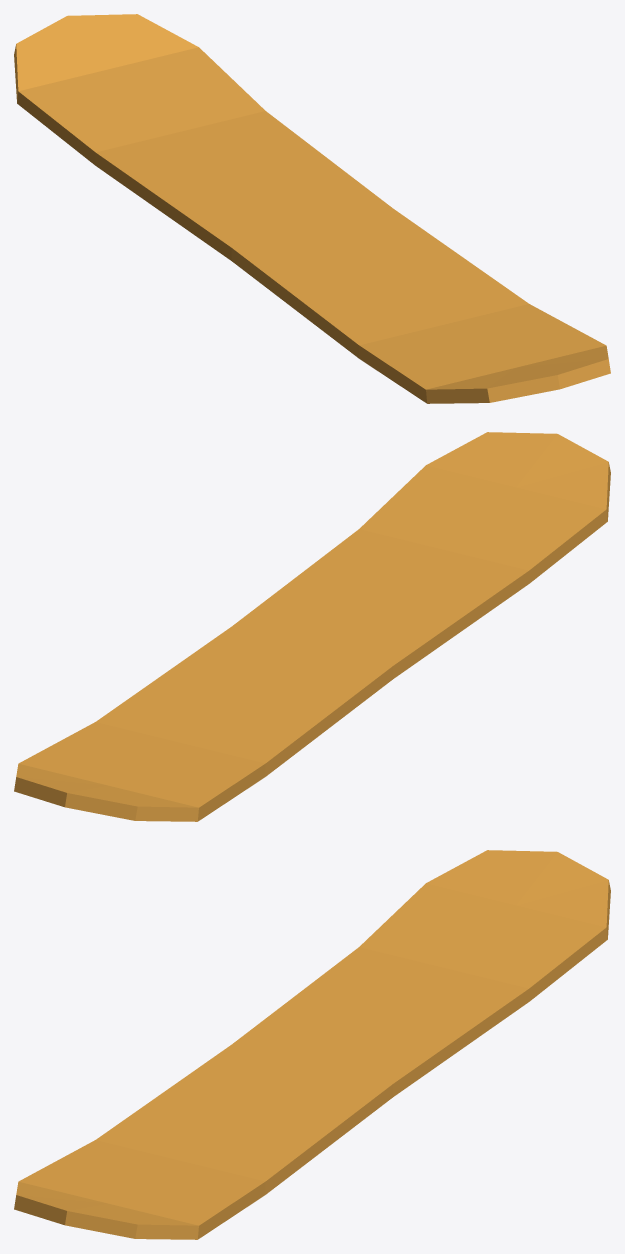
File: snowboard.fbx
3 views of the same model, one above another, from view 1: azimuth 30°, elevation 25°; view 2: azimuth 150°, elevation 25°; view 3: azimuth 330°, elevation 25° (orthographic).
Visible parts, largest first — view 1: snowboard; view 2: snowboard; view 3: snowboard.
Boxes of the visible parts, box(x1,y1,x2,y2) form: snowboard: box(14, 14, 610, 403); snowboard: box(14, 432, 610, 821); snowboard: box(14, 850, 610, 1239).
Size of the model in its own units: 0.3658 by 0.0894 by 1.74.
